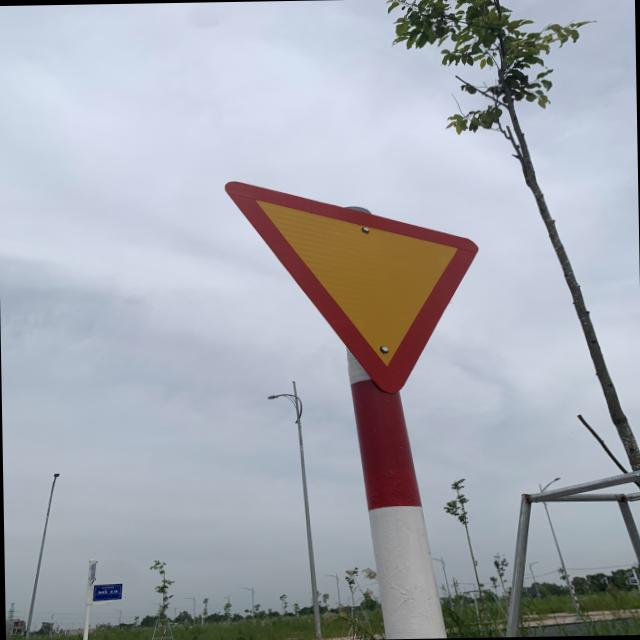Gioi_Han_Toc_Do_25: (226, 177, 482, 398)
